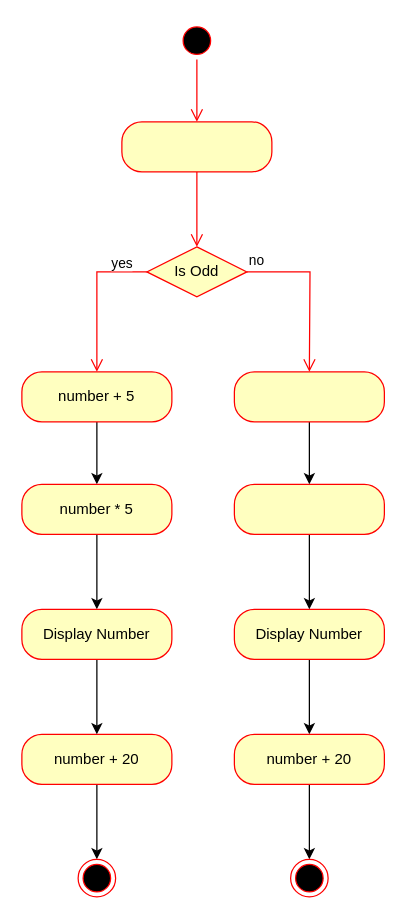
The diagram is 406 pixels wide and 919 high, and some of its shapes have lost their labels. Here are the shapes that lost their labels. From the top down, the centre of each, then its label:
point (196, 146): Get a number from user
point (308, 396): number + 7
point (308, 508): number * 7
